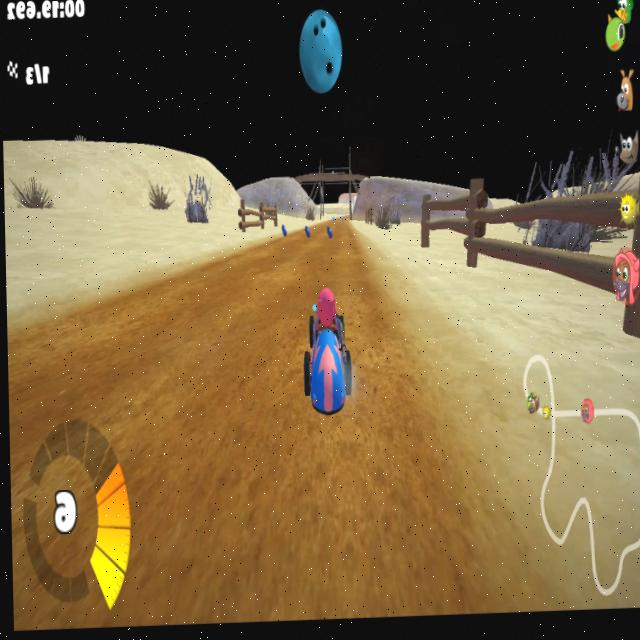nitro: (277, 221, 288, 240), (322, 225, 336, 238), (300, 226, 315, 238)
player_kart: (292, 278, 363, 439)
track: (7, 291, 294, 622), (292, 434, 465, 613), (359, 311, 432, 439), (243, 238, 358, 286), (176, 249, 243, 307), (358, 249, 390, 326), (338, 217, 355, 245)
